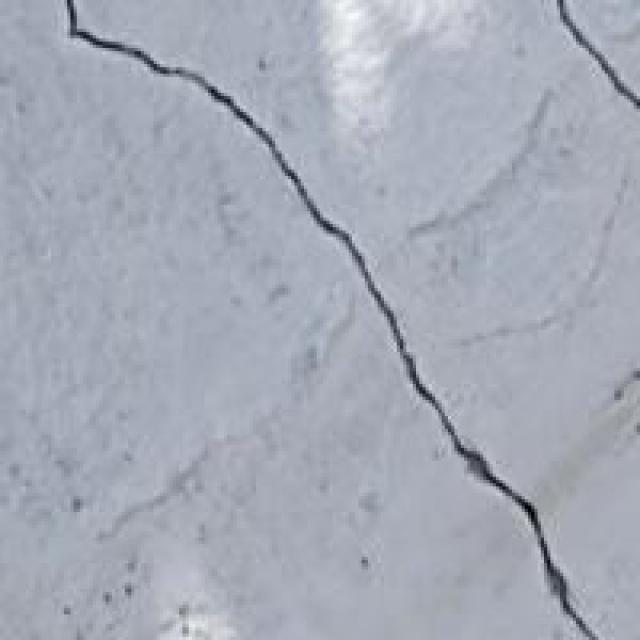crack: (45, 0, 637, 637)
